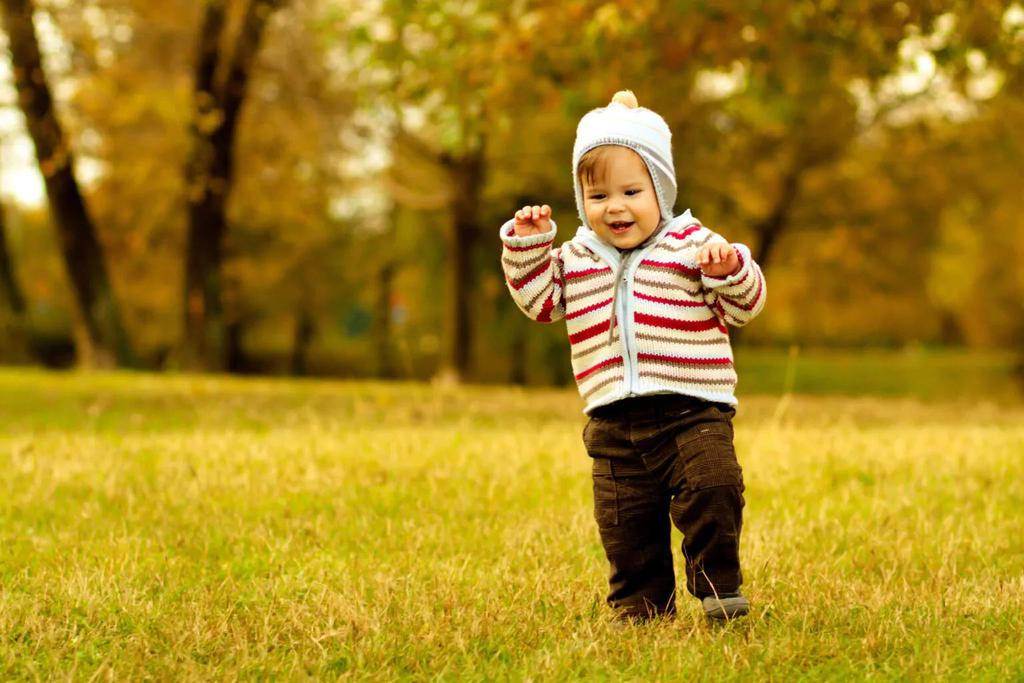child: (483, 71, 801, 646)
